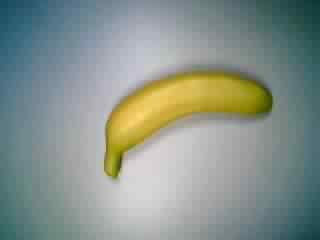banana: (99, 65, 280, 182)
